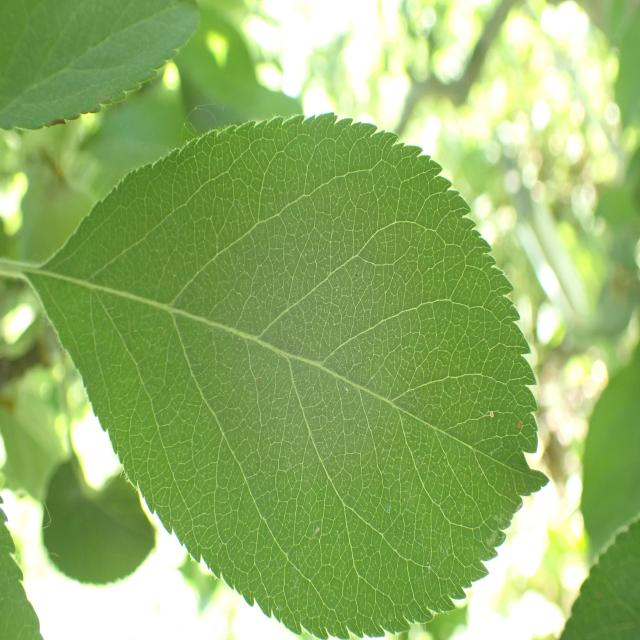healthy: (37, 112, 551, 639), (0, 0, 201, 132), (557, 516, 640, 640)
